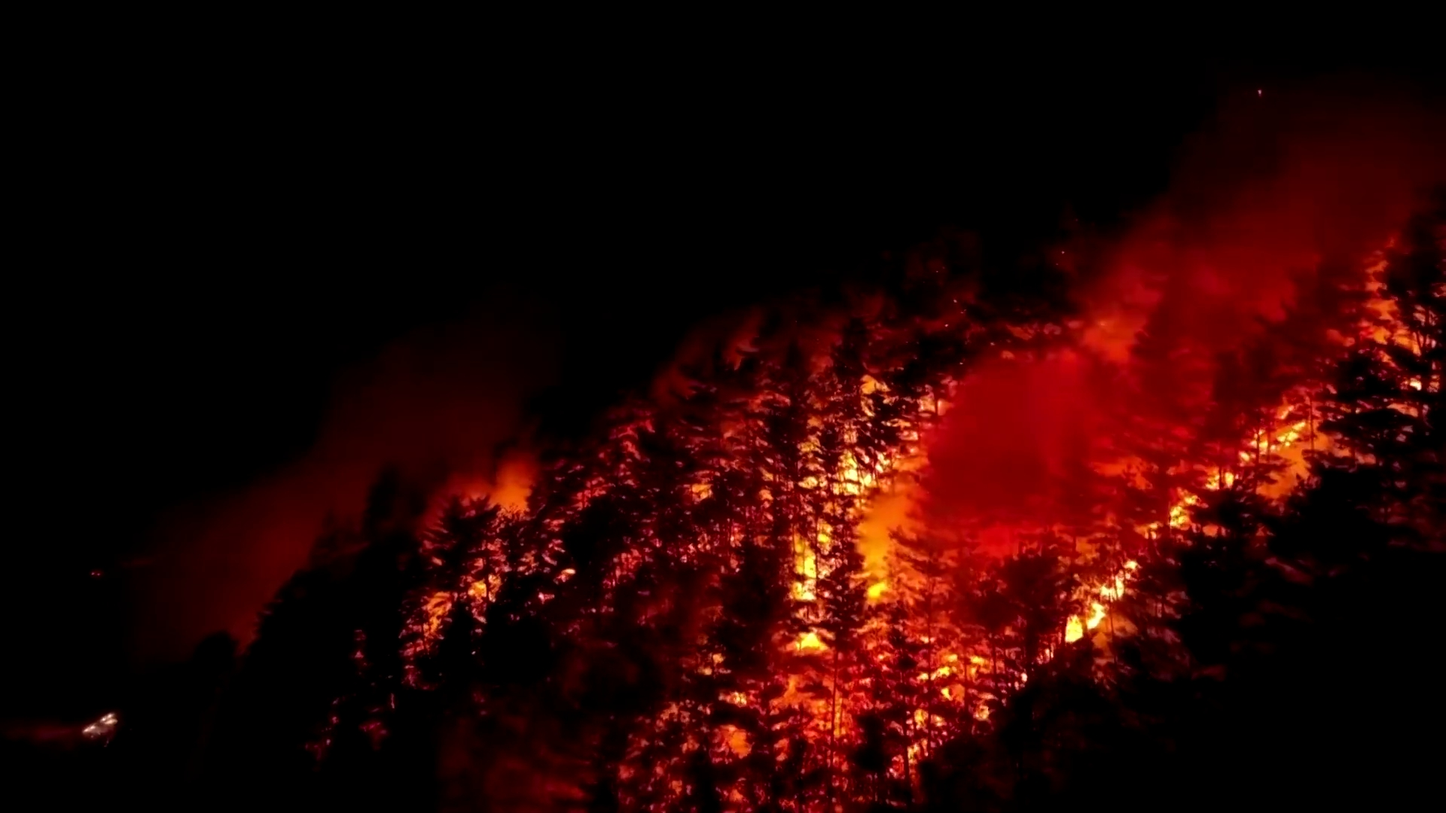forest_fire: (844, 452, 922, 606), (1043, 559, 1138, 660), (1238, 407, 1309, 464), (914, 650, 993, 701), (1136, 489, 1202, 535), (793, 543, 822, 599), (793, 632, 827, 653), (1201, 470, 1236, 490)
